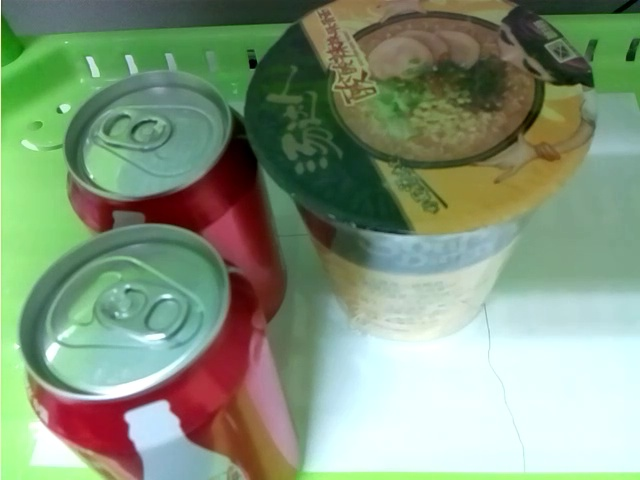cocacola: (15, 222, 301, 480), (65, 66, 286, 323)
noodles: (243, 1, 597, 343)
